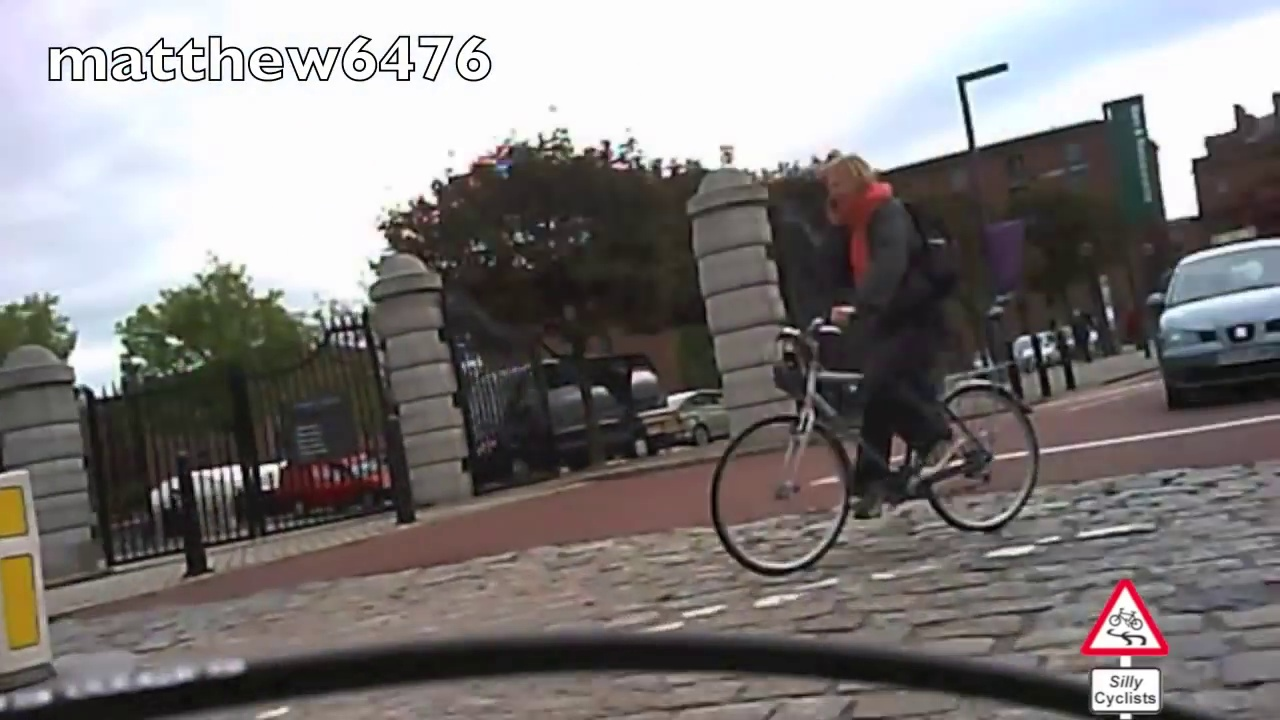cyclist_side: (703, 152, 1049, 581)
